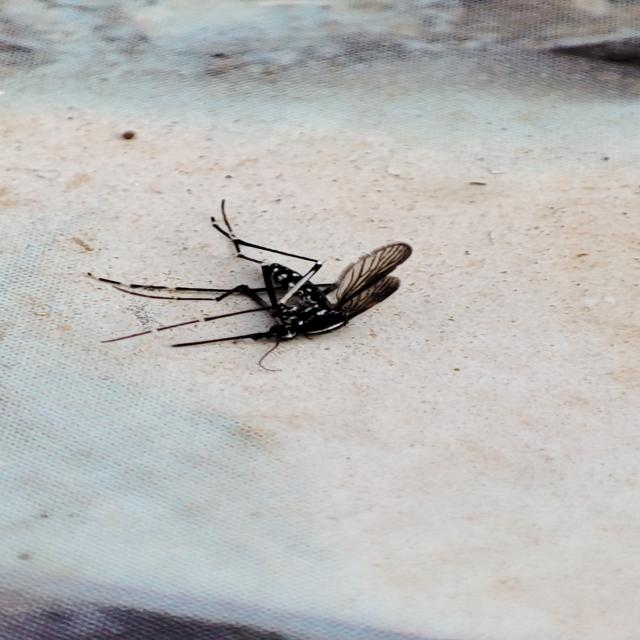albopictus: (86, 188, 408, 375)
